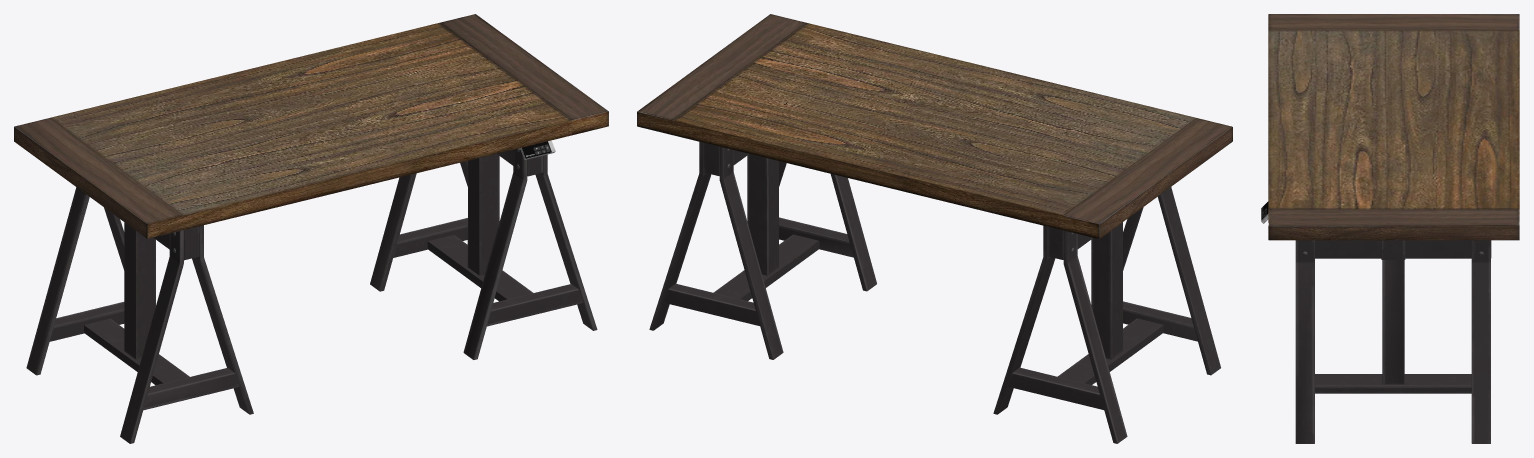
Rendered from B07B7DFS3S.glb.
3 views of the same model, side by side, from view 1: azimuth 30°, elevation 25°; view 2: azimuth 150°, elevation 25°; view 3: azimuth 270°, elevation 25° (orthographic). The views are drawn at different scales.
Parts seen in each view (by area): view 1: RootNode; view 2: RootNode; view 3: RootNode.
Part boxes in pixels (box(x1,y1,x2,y2)): RootNode: box(14, 14, 608, 443); RootNode: box(637, 14, 1232, 443); RootNode: box(1261, 14, 1519, 443).
Size of the model in its own units: 1.54 by 0.7252 by 0.7836.
Materials: 1 (1 with a texture image).
